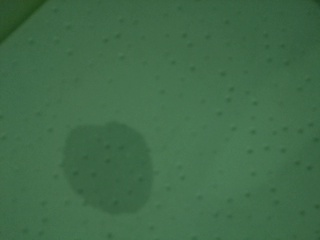Water_detected: (67, 130, 150, 209)
